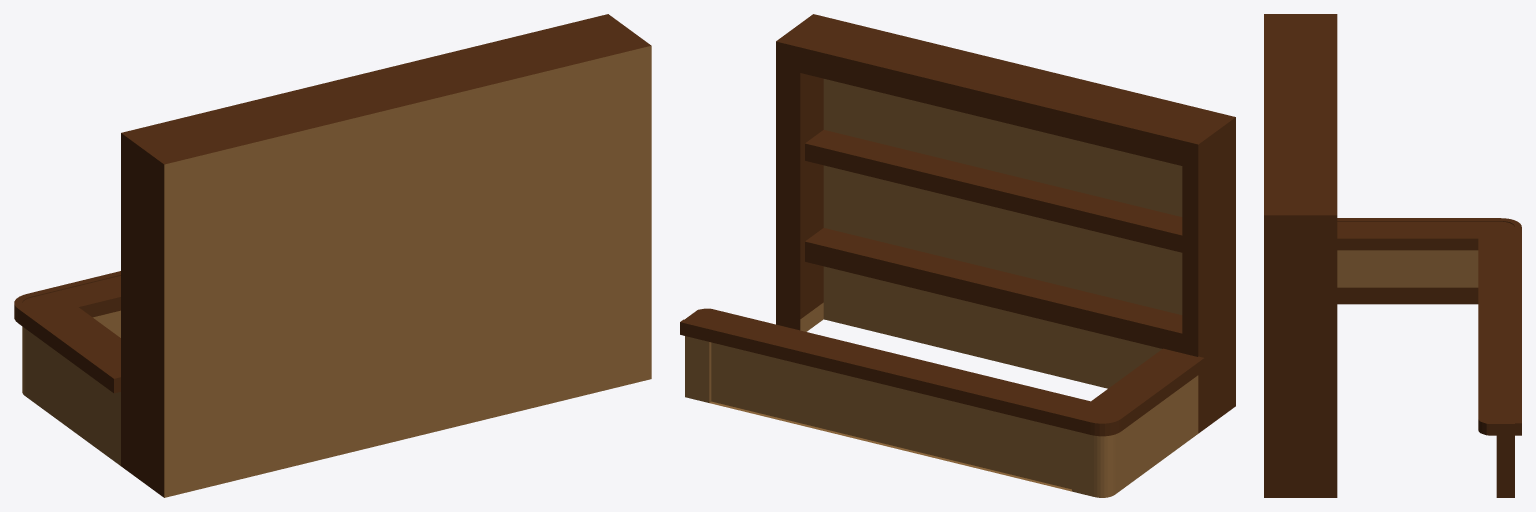
The model's file is Barhylla.fbx.
The picture shows the model from 3 angles, left to right: view 1: azimuth 30°, elevation 25°; view 2: azimuth 150°, elevation 25°; view 3: azimuth 270°, elevation 25°; orthographic projection. The views are drawn at different scales.
Visible parts, largest first — view 1: Cube; view 2: Cube; view 3: Cube.
Boxes of the visible parts, x1,y1,x2,y2 form: Cube: (14, 14, 651, 497); Cube: (680, 14, 1235, 497); Cube: (1264, 14, 1521, 497).
Bounding box in the file's own units: 5292 × 3400 × 2813.
